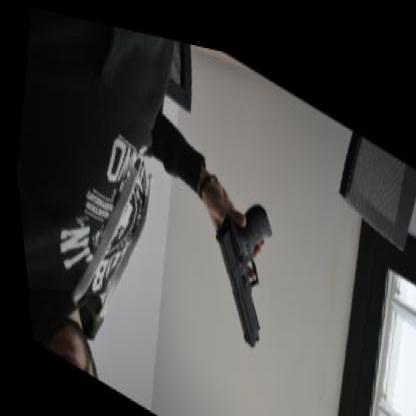pistol: (189, 163, 282, 346)
